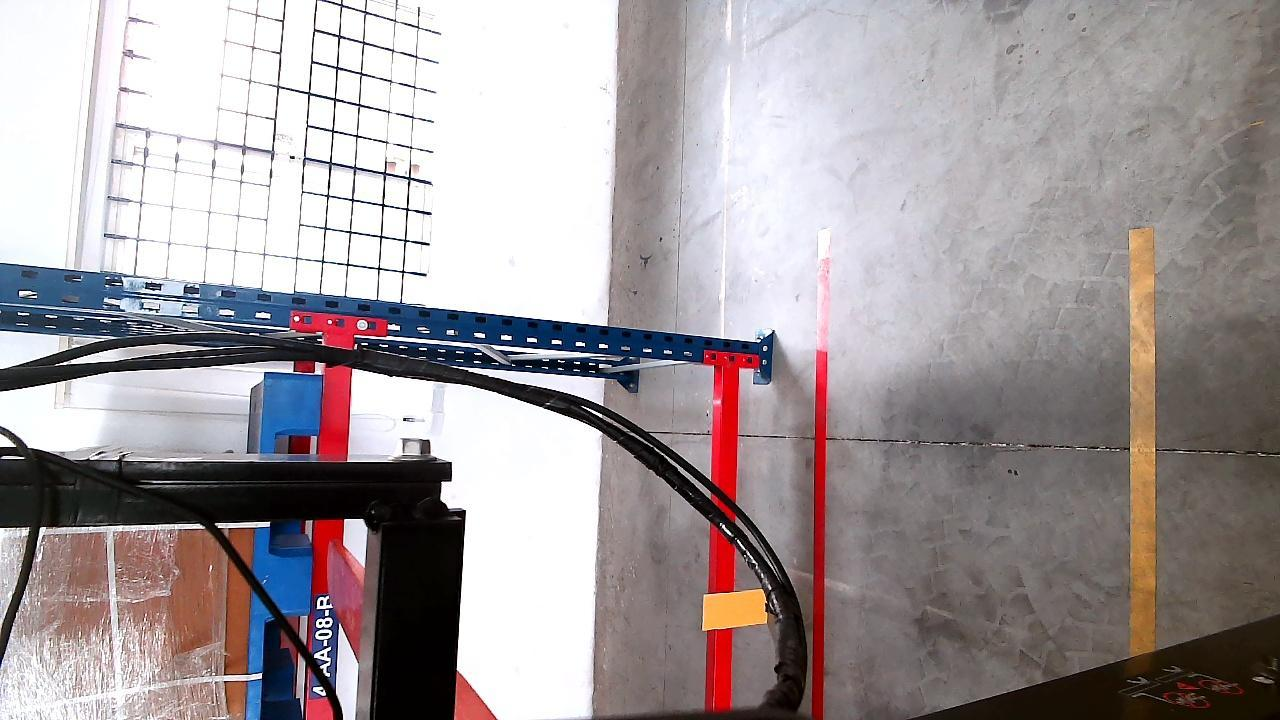red_line: (809, 259, 833, 718)
yellow_line: (1130, 222, 1159, 662)
